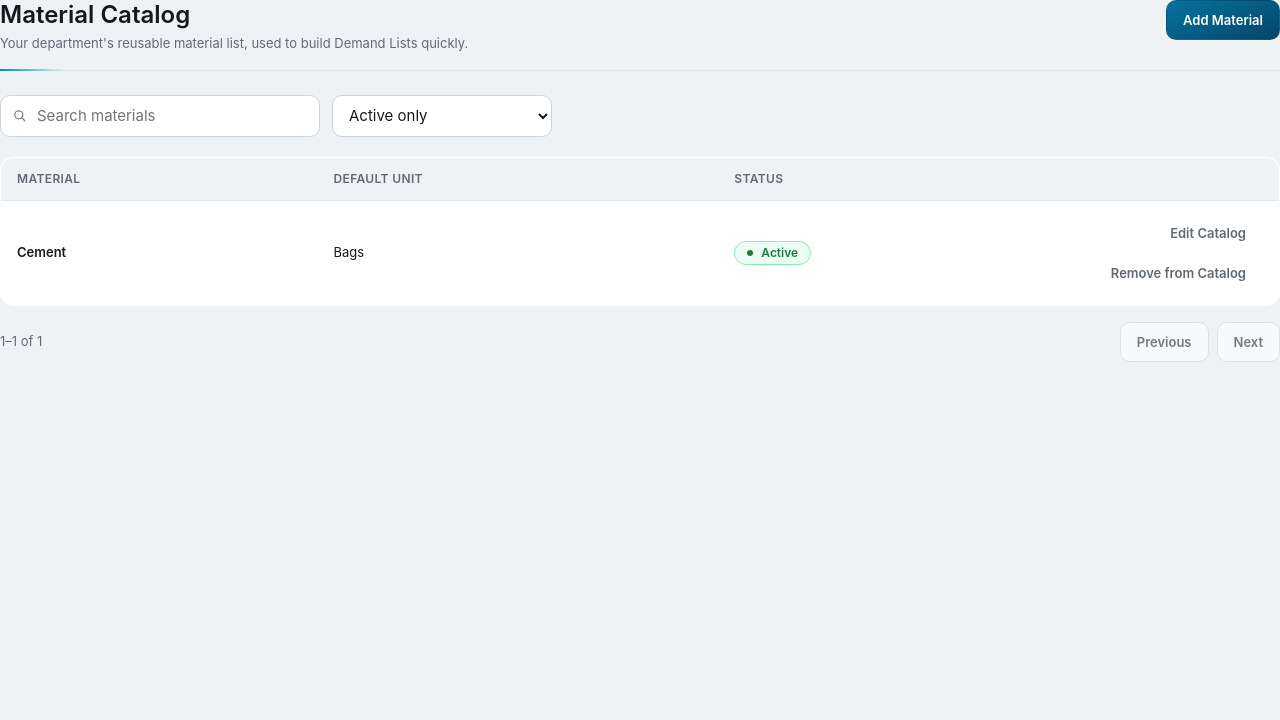
Test: Material catalog removal / restore lifecycle › removal asks for confirmation first and does nothing if cancelled
Click the button "Remove from Catalog".
click(1178, 272)  # box [1094, 252, 1263, 292]
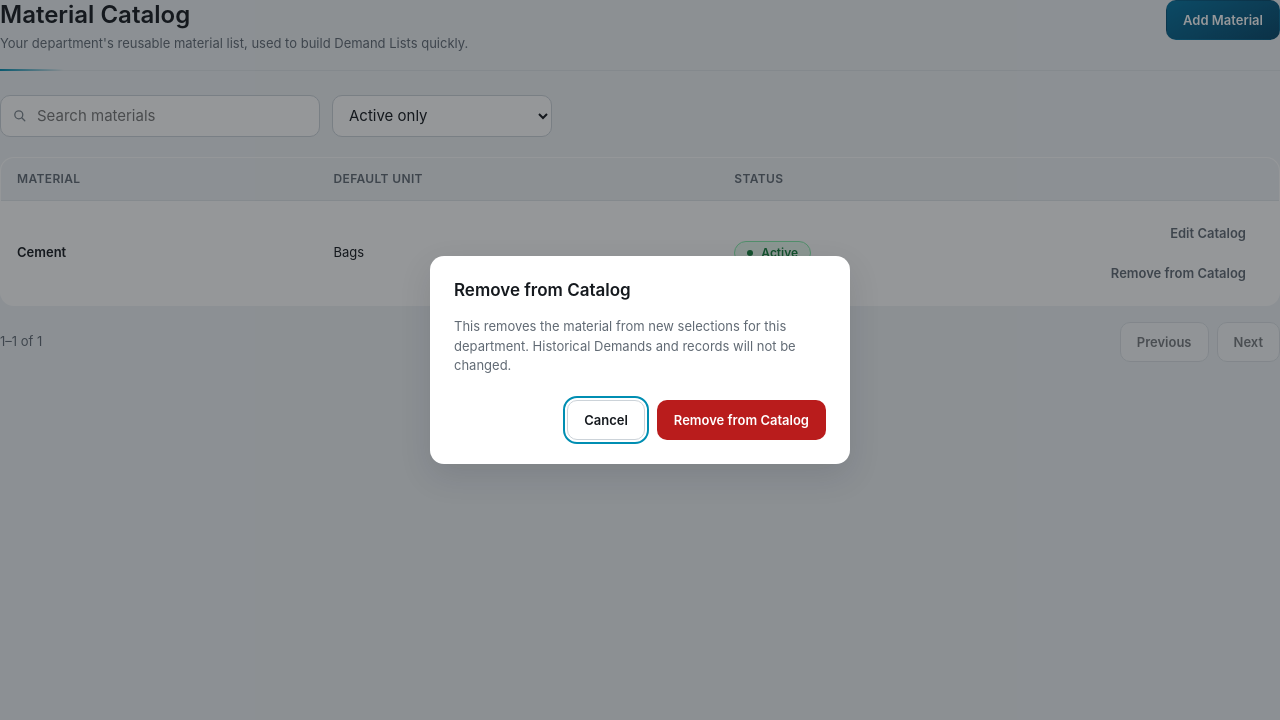
Now the heading "Remove from Catalog" is shown, box [454, 280, 631, 300]
Now the text "Historical Demands and records will not be changed" is shown, box [454, 318, 796, 373]
Click the button "Cancel".
click(606, 420)  # box [567, 400, 645, 440]
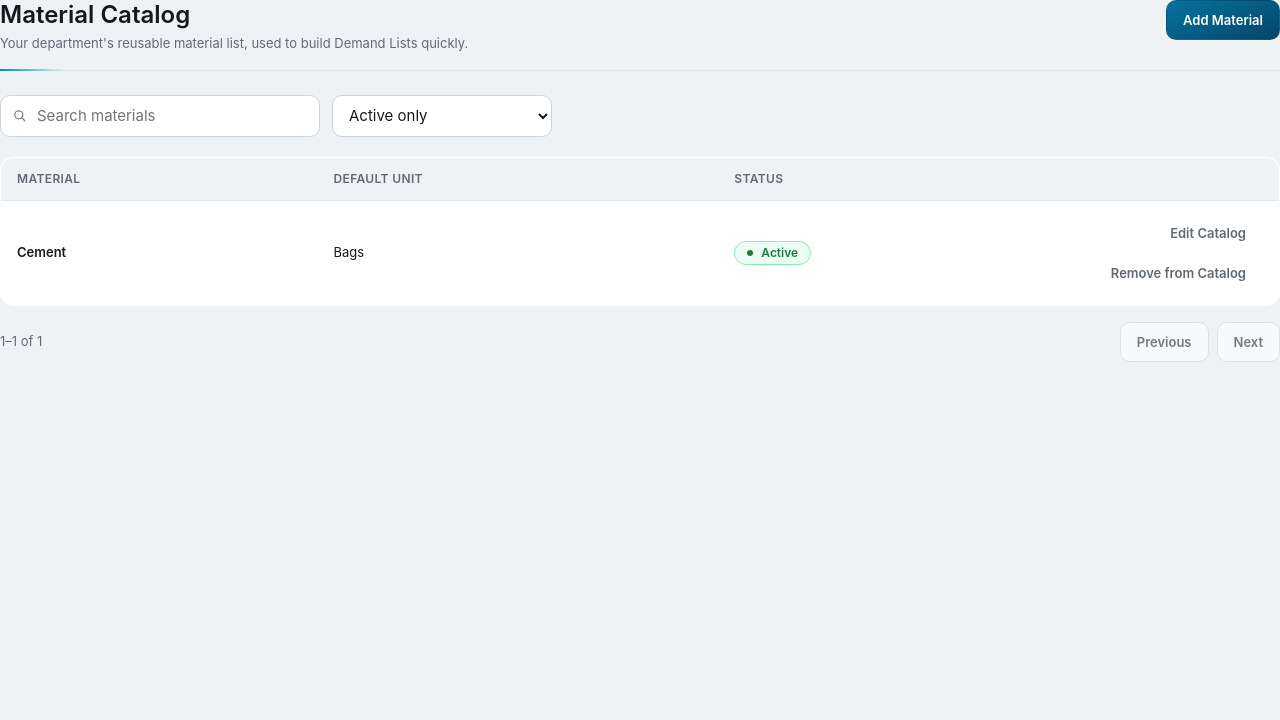
Now the dialog is gone
